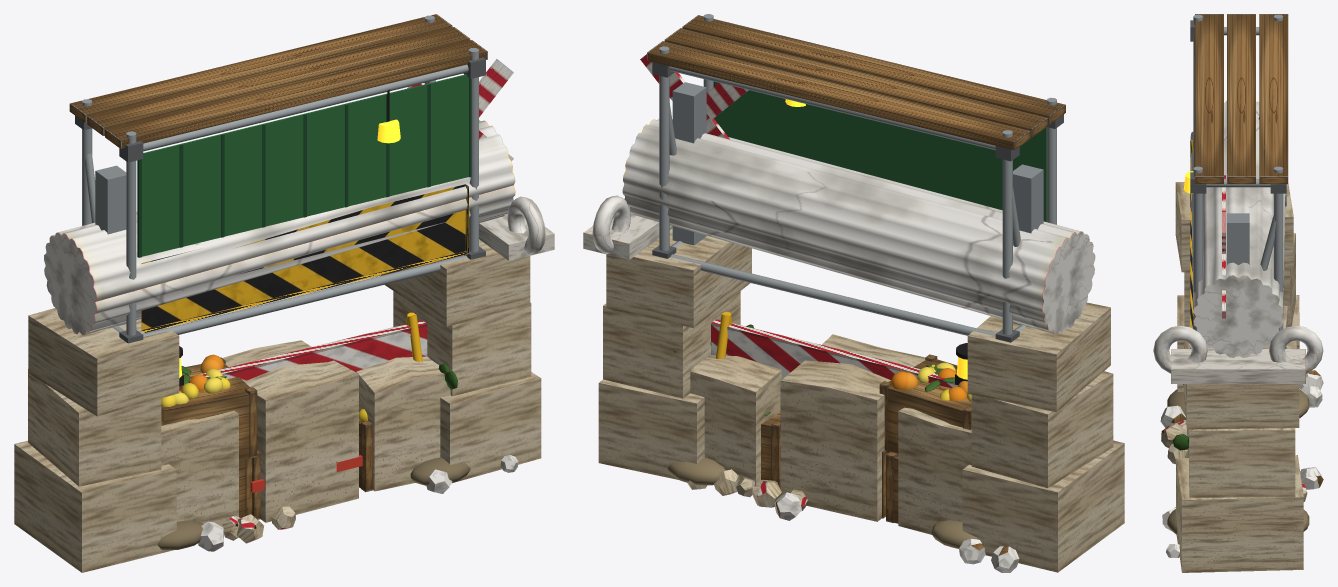
Rendered from track-obstacles.glb.
3 renders of one model, left to right at view 1: azimuth 30°, elevation 25°; view 2: azimuth 150°, elevation 25°; view 3: azimuth 270°, elevation 25°, orthographic. The views are drawn at different scales.
Visible parts, largest first — view 1: gate:column, gate:scaffold, barrier:travertine, barrier:crates, barrier:works, gate:crossing; view 2: gate:column, gate:scaffold, barrier:travertine, barrier:works, barrier:crates, gate:crossing; view 3: gate:column, gate:scaffold, gate:crossing, barrier:travertine, barrier:works.
Part boxes in pixels (x1=…): gate:column: x1=14, y1=120, x2=554, y2=572; gate:scaffold: x1=69, y1=14, x2=487, y2=343; barrier:travertine: x1=161, y1=340, x2=450, y2=543; barrier:crates: x1=161, y1=354, x2=373, y2=519; barrier:works: x1=157, y1=312, x2=470, y2=549; gate:crossing: x1=95, y1=59, x2=513, y2=328; gate:column: x1=583, y1=119, x2=1124, y2=572; gate:scaffold: x1=647, y1=14, x2=1065, y2=342; barrier:travertine: x1=687, y1=334, x2=971, y2=534; barrier:works: x1=667, y1=312, x2=977, y2=548; barrier:crates: x1=761, y1=354, x2=971, y2=523; gate:crossing: x1=640, y1=54, x2=1043, y2=327; gate:column: x1=1153, y1=100, x2=1323, y2=572; gate:scaffold: x1=1183, y1=14, x2=1288, y2=348; gate:crossing: x1=1222, y1=175, x2=1249, y2=318; barrier:travertine: x1=1161, y1=306, x2=1307, y2=530; barrier:works: x1=1167, y1=389, x2=1309, y2=534.
Size of the model in its own units: 3.07 by 2.66 by 1.06.
5 materials, 1 textured.
